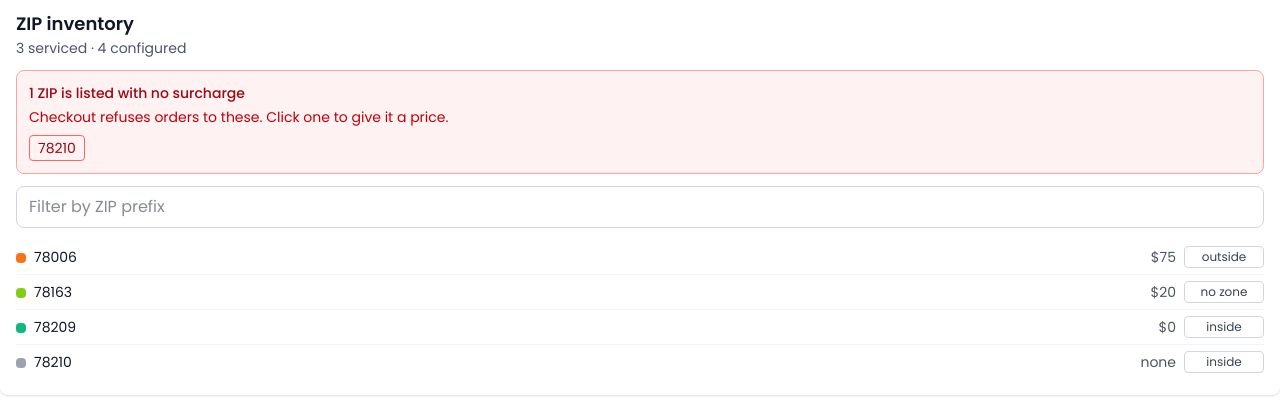
Test case: rows › filters by ZIP prefix
Type "7820" into the search field labelled "Filter by ZIP prefix".
click(640, 207); type("7820")  # box [16,186,1264,228]
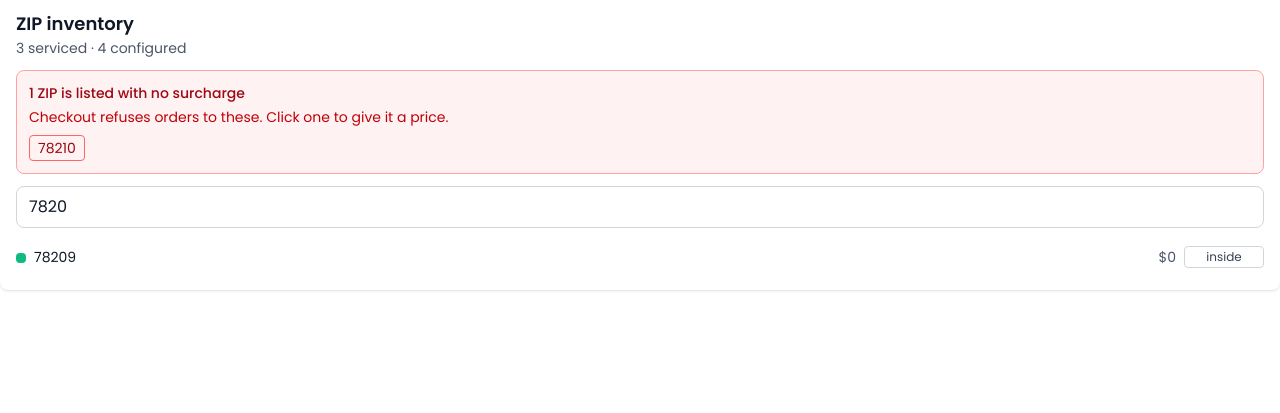
Expected: the number of buttons "78209" is 1, [16,247,1104,267]
Expected: the button "78006" is gone
